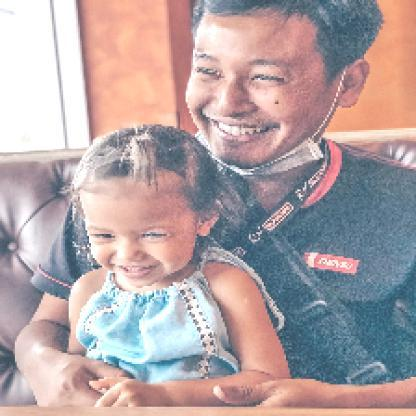child: (63, 124, 295, 416)
